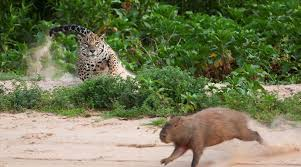capivara: (160, 107, 264, 167)
